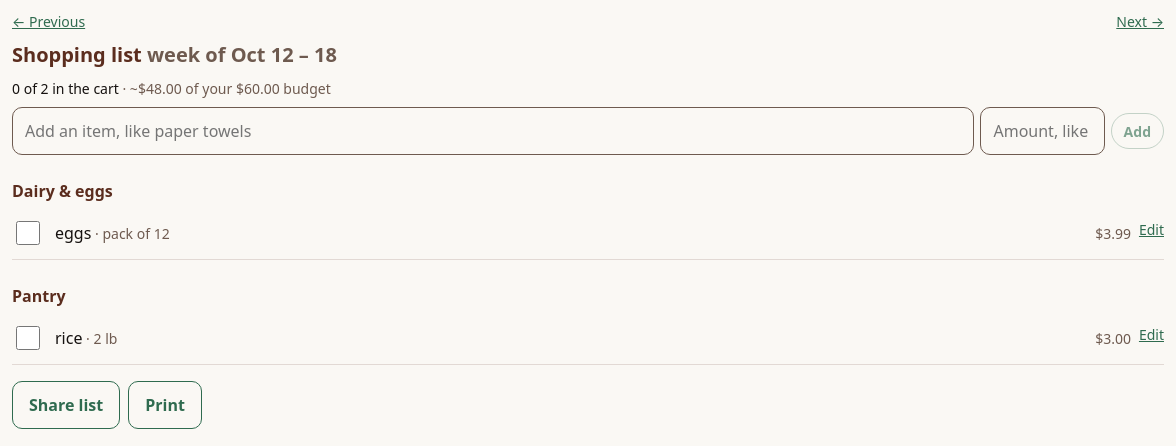
Scenario: ListPage › fills the list from the plan and checks things off
The width and height of the screenshot is (1176, 446).
Expected: the text "eggs" is shown, [55, 222, 91, 244]
Expected: the text "$3.99" is shown, [1095, 222, 1131, 244]
What coordinates should you click on to do the following:
click the checkbox labelled "eggs · pack of 12"
I would click on:
 (28, 233)
Its box is [16, 221, 40, 245].
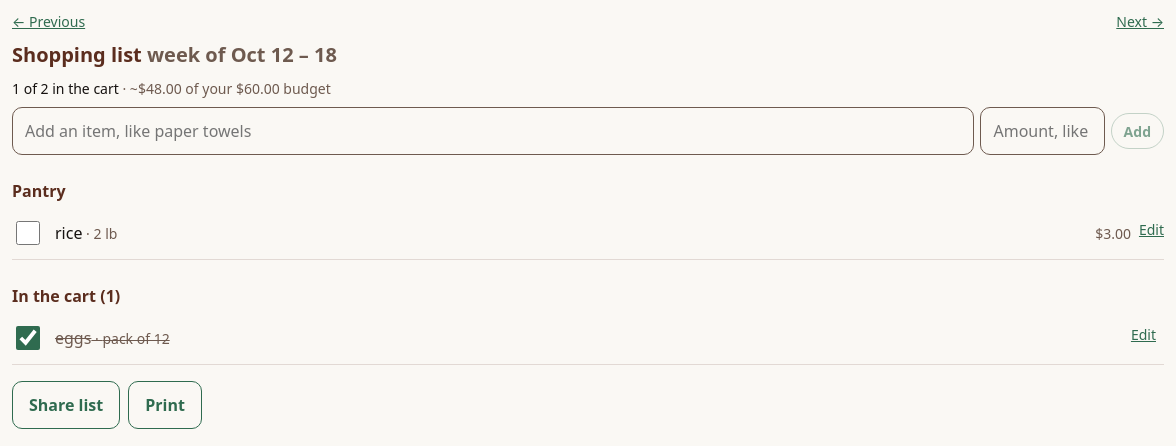
Expected: the text "eggs" is shown, [55, 327, 91, 349]
Result: the text "1 of 2 in the cart · ~$48.00 of your $60.00 budget" is shown at [12, 79, 331, 98]
